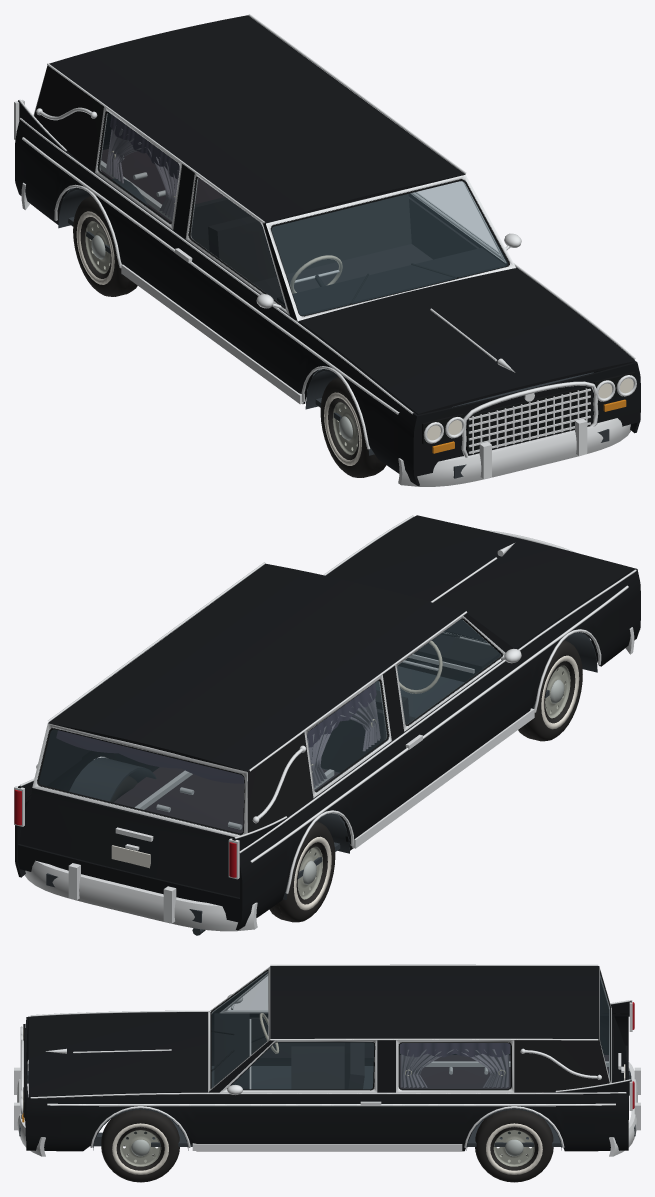
The model's file is ravenhill.glb.
3 renders of one model, top to bottom at view 1: azimuth 30°, elevation 25°; view 2: azimuth 150°, elevation 25°; view 3: azimuth 270°, elevation 25°, orthographic. The views are drawn at different scales.
Parts seen in each view (by area): view 1: panel_RoofRavenhill, panel_hoodRavenhill, glass_FrontRavenhill, Interior Ravenhill FrontBenchBack, panel_RearQuarterLRavenhill, panel_BodyDoorLRavenhill, panel_FrontWingLRavenhill, glass_BodyDoorLRavenhill, panel_bumper_frontRavenhill, Interior Ravenhill Dashboard, glass_CoachLRavenhill, panel_RavenhillFrontValance (+30 smaller); view 2: panel_RoofRavenhill, panel_hoodRavenhill, panel_TailgateRavenhill, glass_TailgateRavenhill, panel_RearQuarterLRavenhill, panel_BodyDoorLRavenhill, panel_FrontWingLRavenhill, glass_BodyDoorLRavenhill, panel_bumper_rearRavenhill, glass_CoachLRavenhill, Interior Ravenhill CasketDeck, panel_RearQuarterLRavenhillLandau (+29 smaller); view 3: panel_RoofRavenhill, panel_hoodRavenhill, panel_RearQuarterRRavenhill, panel_BodyDoorRRavenhill, panel_FrontWingRRavenhill, glass_BodyDoorRRavenhill, glass_CoachRRavenhill, panel_RearQuarterRRavenhillLandau, glass_FrontRavenhill, Tire_Marten_Carcass_FR, Tire_Marten_Carcass_RR, Interior Ravenhill FrontBench (+39 smaller).
Boxes of the visible parts, left/top/right/bottom form: panel_RoofRavenhill: left=49, top=15, right=465, bottom=223; panel_hoodRavenhill: left=298, top=268, right=633, bottom=414; glass_FrontRavenhill: left=272, top=181, right=507, bottom=315; Interior Ravenhill FrontBenchBack: left=208, top=190, right=411, bottom=282; panel_RearQuarterLRavenhill: left=15, top=120, right=176, bottom=298; panel_BodyDoorLRavenhill: left=169, top=233, right=292, bottom=383; panel_FrontWingLRavenhill: left=286, top=318, right=419, bottom=485; glass_BodyDoorLRavenhill: left=191, top=178, right=285, bottom=306; panel_bumper_frontRavenhill: left=398, top=418, right=631, bottom=486; Interior Ravenhill Dashboard: left=277, top=248, right=505, bottom=315; glass_CoachLRavenhill: left=100, top=113, right=179, bottom=222; panel_RavenhillFrontValance: left=412, top=362, right=640, bottom=476; panel_RoofRavenhill: left=48, top=564, right=464, bottom=771; panel_hoodRavenhill: left=328, top=516, right=633, bottom=648; panel_TailgateRavenhill: left=19, top=788, right=239, bottom=897; glass_TailgateRavenhill: left=39, top=729, right=243, bottom=832; panel_RearQuarterLRavenhill: left=236, top=739, right=401, bottom=930; panel_BodyDoorLRavenhill: left=394, top=660, right=518, bottom=804; panel_FrontWingLRavenhill: left=515, top=568, right=640, bottom=719; glass_BodyDoorLRavenhill: left=397, top=619, right=500, bottom=724; panel_bumper_rearRavenhill: left=24, top=860, right=257, bottom=931; glass_CoachLRavenhill: left=307, top=681, right=386, bottom=790; Interior Ravenhill CasketDeck: left=114, top=767, right=339, bottom=833; panel_RearQuarterLRavenhillLandau: left=247, top=732, right=313, bottom=832; panel_RoofRavenhill: left=270, top=966, right=599, bottom=1039; panel_hoodRavenhill: left=28, top=1012, right=207, bottom=1097; panel_RearQuarterRRavenhill: left=392, top=1094, right=628, bottom=1151; panel_BodyDoorRRavenhill: left=215, top=1094, right=391, bottom=1151; panel_FrontWingRRavenhill: left=26, top=1094, right=215, bottom=1151; glass_BodyDoorRRavenhill: left=232, top=1042, right=373, bottom=1088; glass_CoachRRavenhill: left=400, top=1043, right=510, bottom=1088; panel_RearQuarterRRavenhillLandau: left=514, top=1040, right=609, bottom=1092; glass_FrontRavenhill: left=212, top=971, right=267, bottom=1087; Tire_Marten_Carcass_FR: left=101, top=1109, right=179, bottom=1182; Tire_Marten_Carcass_RR: left=475, top=1109, right=553, bottom=1182; Interior Ravenhill FrontBench: left=291, top=1046, right=344, bottom=1089.
Bounding box in the file's own units: 2.2 × 1.53 × 6.04.
